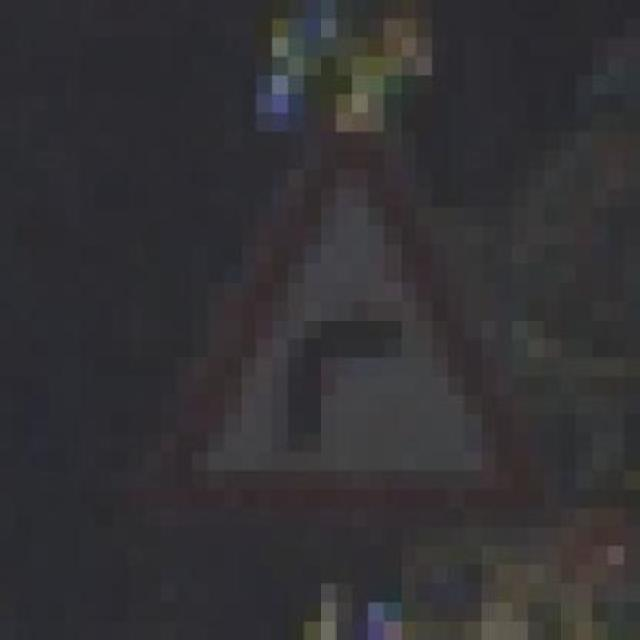Dangerous Rright Curve Ahead: (144, 76, 544, 546)
